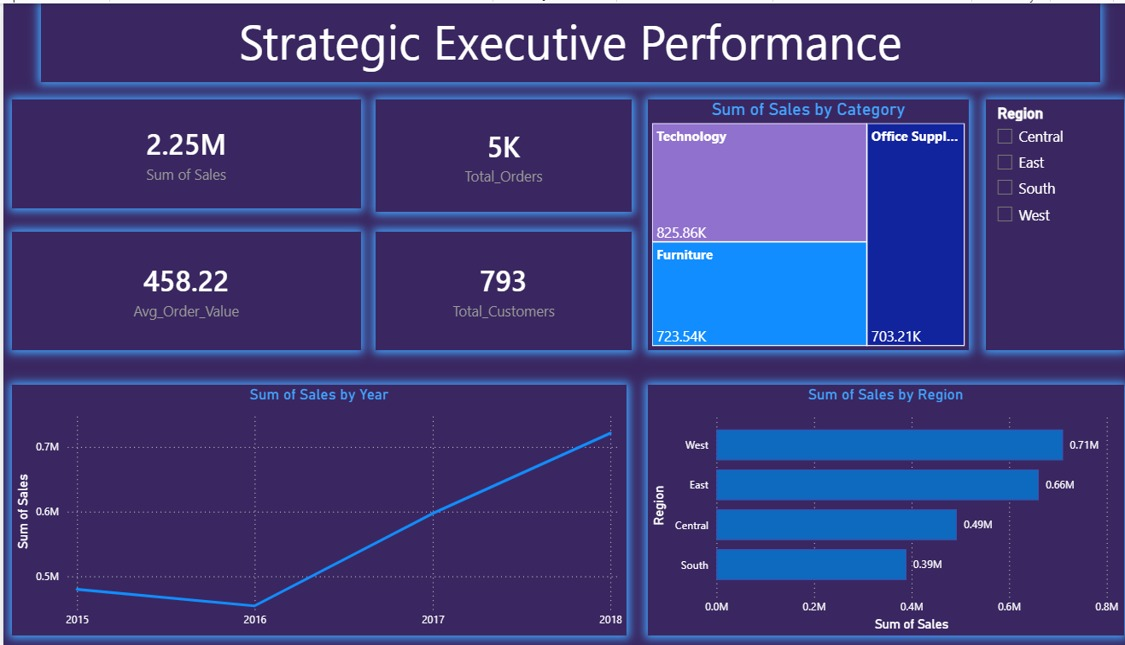

What the dashboard file says about the page in this screenshot:
{"tool":"powerbi","page":{"name":"Executive Insights","canvas":[1280,720],"ordinal":2},"visuals":[{"type":"cardVisual","fields":{"Data":["Sum(Cleaned_Data.Sales)"]},"box":[9.7,107.4,394.5,121.9],"z":0},{"type":"cardVisual","fields":{"Data":["Cleaned_Data.Avg_Order_Value"]},"box":[9.7,254.6,394.5,132.7],"z":1000},{"type":"cardVisual","fields":{"Data":["Cleaned_Data.Total_Orders"]},"box":[421,107.4,289.5,125.5],"z":2000},{"type":"cardVisual","fields":{"Data":["Cleaned_Data.Total_Customers"]},"box":[421,254.6,289.5,132.7],"z":3000},{"type":"lineChart","fields":{"Category":["Cleaned_Data.Order Date.Variation.Date Hierarchy.Year","Cleaned_Data.Order Date.Variation.Date Hierarchy.Quarter","Cleaned_Data.Order Date.Variation.Date Hierarchy.Month","Cleaned_Data.Order Date.Variation.Date Hierarchy.Day"],"Y":["Sum(Cleaned_Data.Sales)"]},"box":[9.7,425.9,694.9,279.9],"z":4000},{"type":"clusteredBarChart","fields":{"Category":["Cleaned_Data.Region"],"Y":["Sum(Cleaned_Data.Sales)"]},"box":[728.7,425.9,538.1,279.9],"z":5000},{"type":"slicer","fields":{"Values":["Cleaned_Data.Region"]},"box":[1111.1,107.4,155.6,279.9],"z":6000},{"type":"treemap","fields":{"Group":["Cleaned_Data.Category"],"Values":["Sum(Cleaned_Data.Sales)"]},"box":[728.7,107.4,363.1,279.9],"z":7000},{"type":"textbox","box":[42.2,0,1198,88.1],"z":7001}]}

Visuals, with their boxes in screenshot pixels (x1, y1, x2, y2), scaled from the page's 1280x720 canvas onto the 1125x645 screenshot:
cardVisual - Sum(Cleaned_Data.Sales): {"x1": 9, "y1": 96, "x2": 355, "y2": 205}
cardVisual - Cleaned_Data.Avg_Order_Value: {"x1": 9, "y1": 228, "x2": 355, "y2": 347}
cardVisual - Cleaned_Data.Total_Orders: {"x1": 370, "y1": 96, "x2": 624, "y2": 209}
cardVisual - Cleaned_Data.Total_Customers: {"x1": 370, "y1": 228, "x2": 624, "y2": 347}
lineChart - Cleaned_Data.Order Date.Variation.Date Hierarchy.Year x Cleaned_Data.Order Date.Variation.Date Hierarchy.Quarter: {"x1": 9, "y1": 382, "x2": 619, "y2": 632}
clusteredBarChart - Cleaned_Data.Region x Sum(Cleaned_Data.Sales): {"x1": 640, "y1": 382, "x2": 1113, "y2": 632}
slicer - Cleaned_Data.Region: {"x1": 977, "y1": 96, "x2": 1113, "y2": 347}
treemap - Cleaned_Data.Category x Sum(Cleaned_Data.Sales): {"x1": 640, "y1": 96, "x2": 960, "y2": 347}
textbox: {"x1": 37, "y1": 0, "x2": 1090, "y2": 79}
